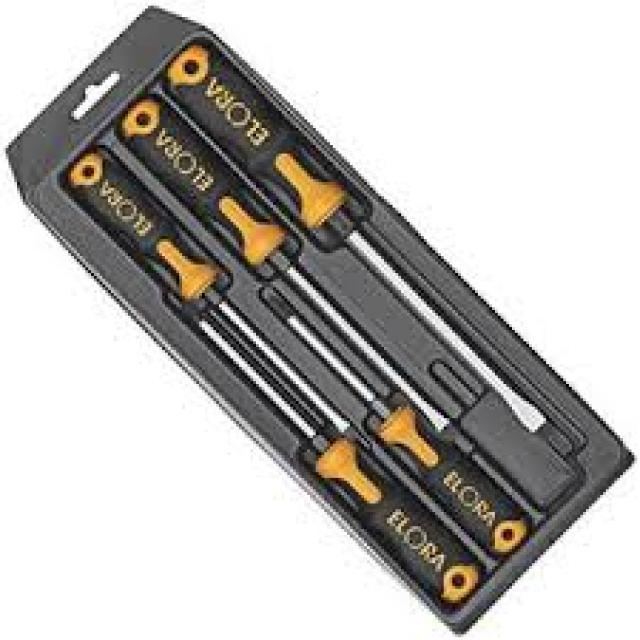screwdriver: (162, 46, 583, 470), (117, 91, 476, 461), (160, 286, 486, 610), (65, 151, 372, 458), (262, 288, 538, 564)
